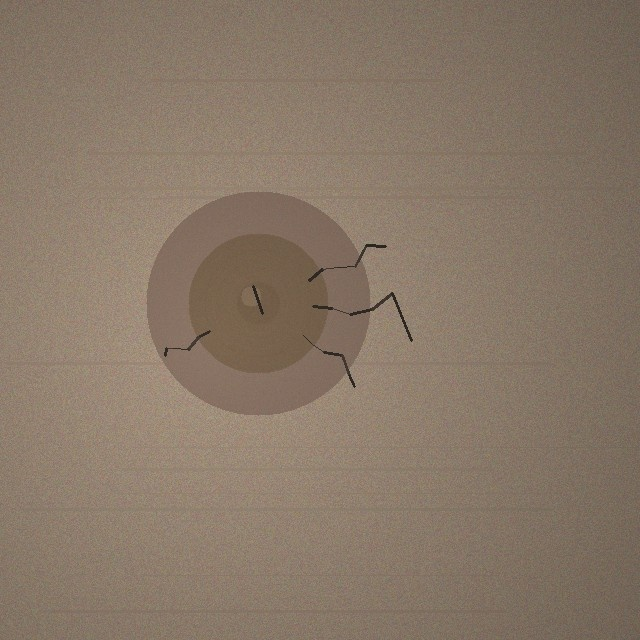crack: (146, 191, 370, 415)
